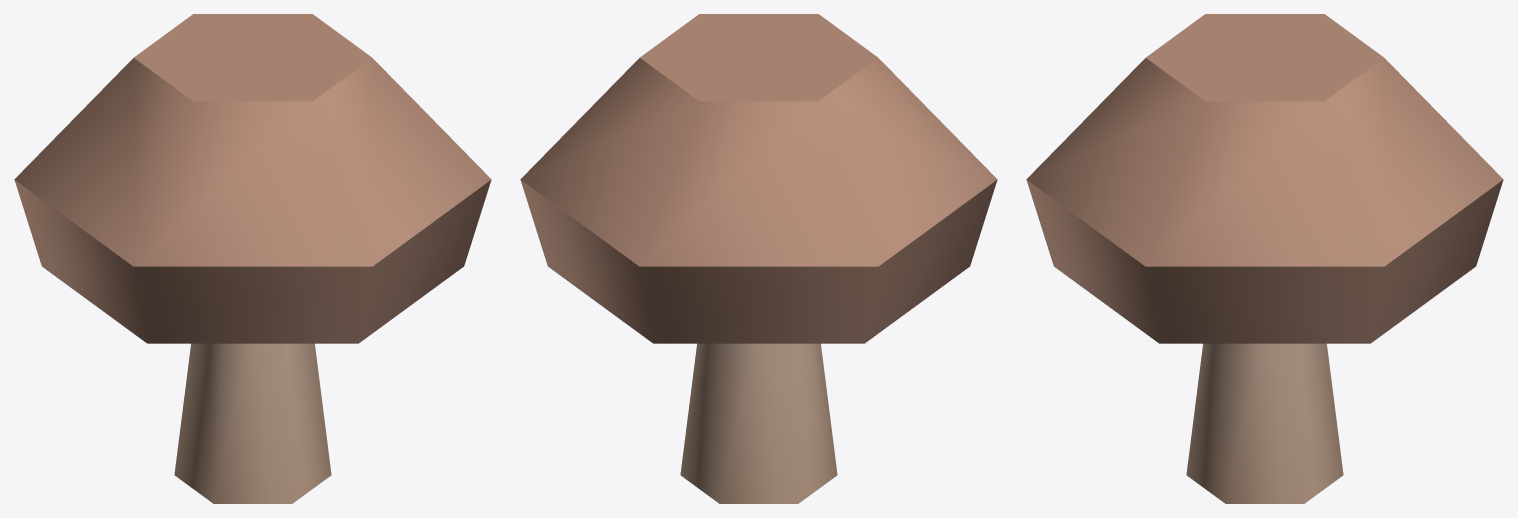
Rendered from mushroom.glb.
3 renders of one model, left to right at view 1: azimuth 30°, elevation 25°; view 2: azimuth 150°, elevation 25°; view 3: azimuth 270°, elevation 25°, orthographic.
Parts seen in each view (by area): view 1: mushroom; view 2: mushroom; view 3: mushroom.
Part boxes in pixels (x1,y1,x2,y2): mushroom: (14, 14, 491, 503); mushroom: (520, 14, 997, 503); mushroom: (1026, 14, 1503, 503).
Size of the model in its own units: 0.1249 by 0.1392 by 0.1442.
